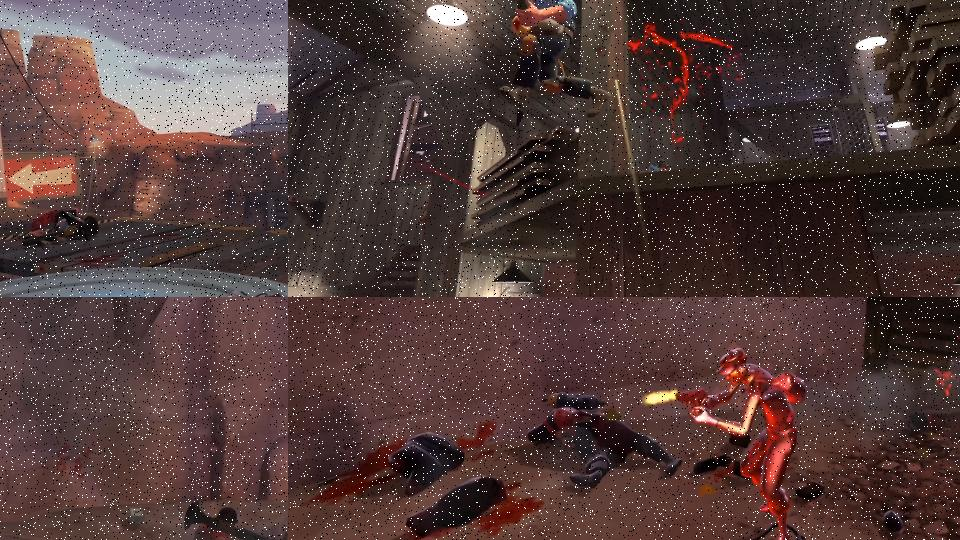Enemy: (675, 348, 809, 540), (497, 0, 612, 120), (177, 498, 288, 540), (18, 206, 100, 249)
